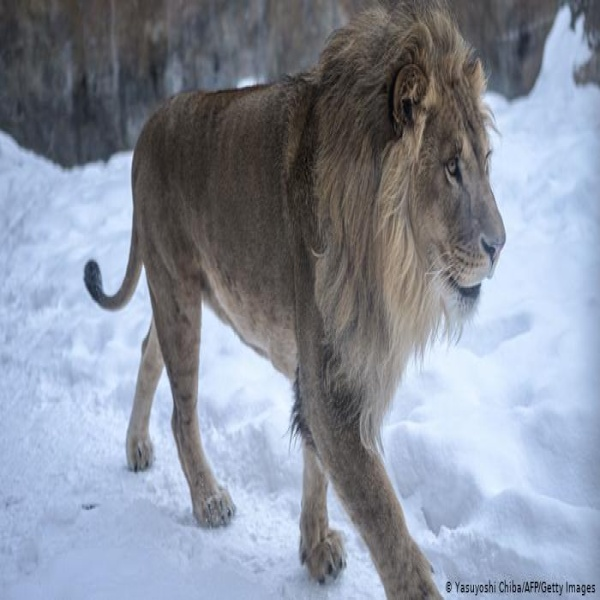Lion: (78, 17, 509, 600)
